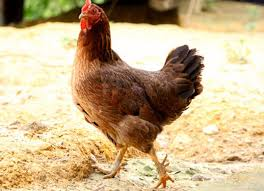Gà/Chicken: (38, 1, 224, 191)
